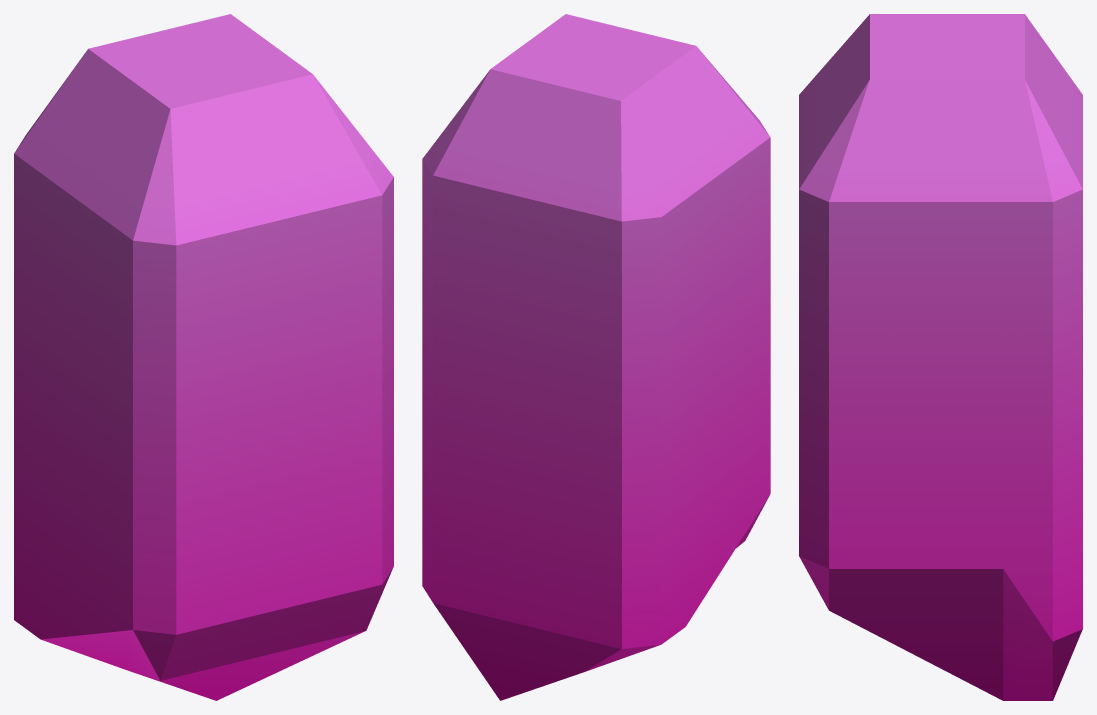
Rendered from Flourapatite.fbx.
3 views of the same model, side by side, from view 1: azimuth 30°, elevation 25°; view 2: azimuth 150°, elevation 25°; view 3: azimuth 270°, elevation 25° (orthographic). The views are drawn at different scales.
Parts seen in each view (by area): view 1: FLOURAPATITE.001; view 2: FLOURAPATITE.001; view 3: FLOURAPATITE.001.
Part boxes in pixels (x1,y1,x2,y2): FLOURAPATITE.001: (14,14,393,700); FLOURAPATITE.001: (422,14,770,700); FLOURAPATITE.001: (799,14,1082,700).
Bounding box in the file's own units: 75.89 × 187 × 75.89.
1 material, 1 textured.
